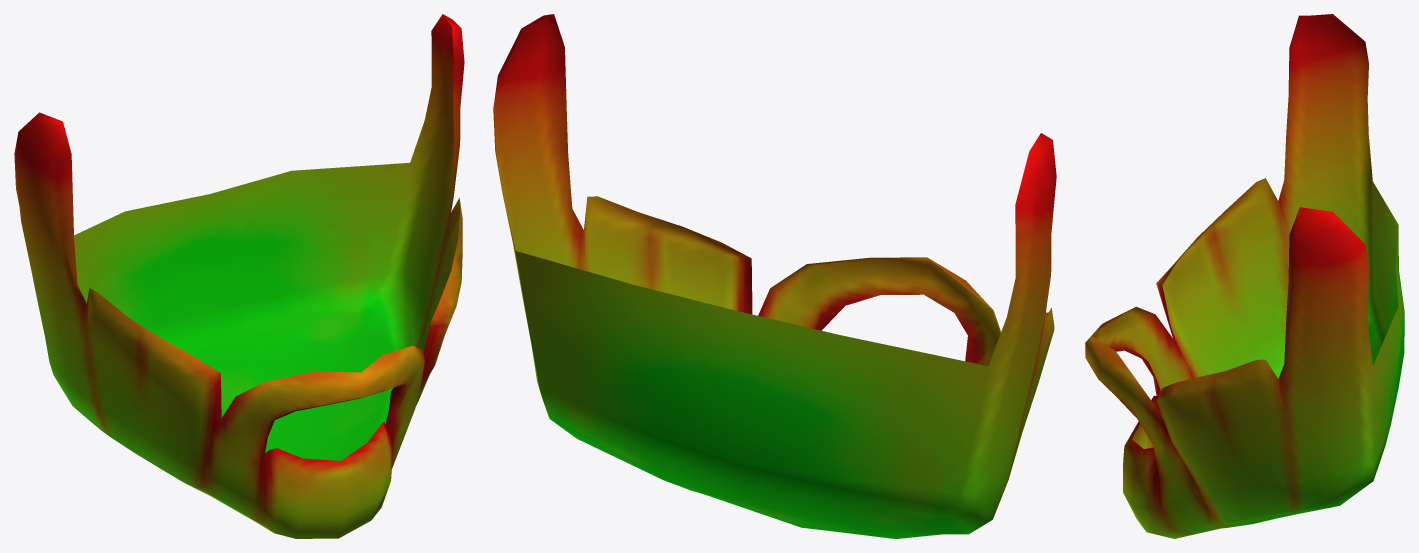
The model's file is LowerFace_FullBeard.obj.
3 renders of one model, left to right at view 1: azimuth 30°, elevation 25°; view 2: azimuth 150°, elevation 25°; view 3: azimuth 270°, elevation 25°, orthographic. The views are drawn at different scales.
Parts seen in each view (by area): view 1: LowerFace_FullBeard_0; view 2: LowerFace_FullBeard_0; view 3: LowerFace_FullBeard_0.
Part boxes in pixels (x1=…): LowerFace_FullBeard_0: x1=14, y1=14, x2=464, y2=538; LowerFace_FullBeard_0: x1=493, y1=14, x2=1056, y2=538; LowerFace_FullBeard_0: x1=1085, y1=14, x2=1404, y2=538.
Size of the model in its own units: 0.1765 by 0.1612 by 0.1131.
Materials: 1 (1 with a texture image).
